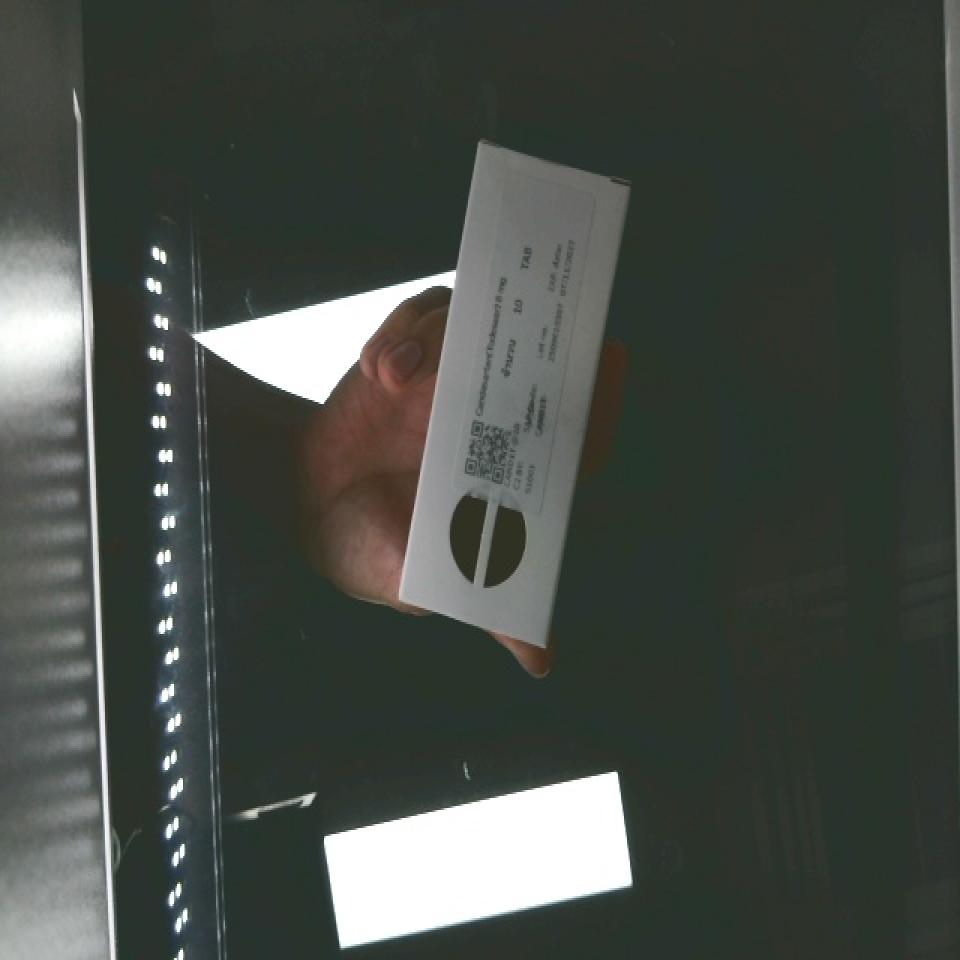medicine_box: (394, 142, 631, 646)
qr_code: (453, 405, 525, 498)
